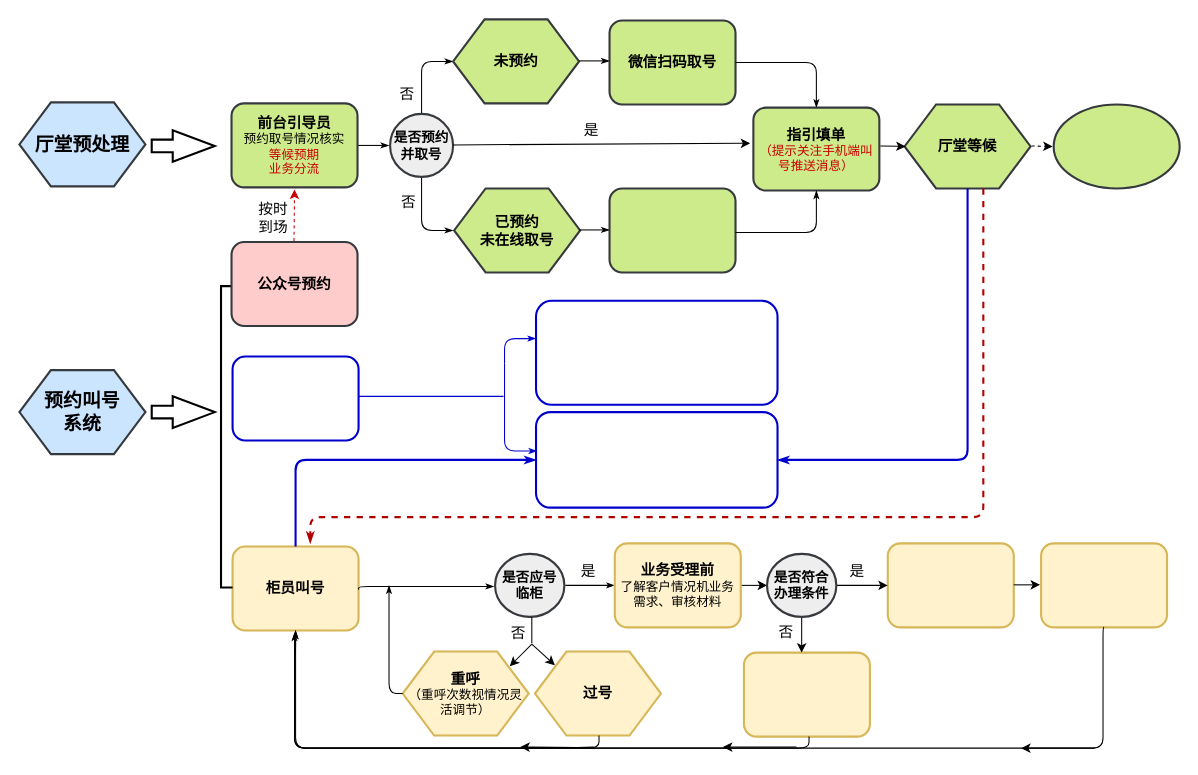
The diagram is 1198 pixels wide and 775 high, and some of its shapes have lost their labels. Each missing label, with the centre of its shape:
"业务办结" goes at point (1104, 585).
"业务受理中 （复杂/需复核业务、或系统故障影响业务办理，告知预计业务办理时长）" goes at point (950, 585).
"厅堂巡视 高峰期提高等候区客户关注度" goes at point (1116, 146).
"叫号情况实时查看 后台取号 实时查看网点业务情况 （包括但不限于查看预约已取号/未取号、现场取号及取消业务总数、叫号进度等）" goes at point (656, 352).
"后台管理" goes at point (295, 398).
"在线取号 （提前取号情形：仅支持提前15min取号）" goes at point (672, 230).
"婉拒受理 告知原因" goes at point (806, 694).
"网点预约数管理 号源调整 （根据厅堂等候人数、柜台服务等实际情况灵活调整各时间段号源）" goes at point (656, 459).
